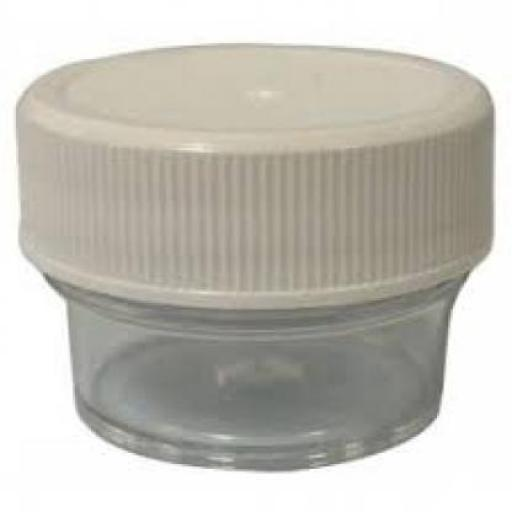glass: (40, 273, 466, 469)
plastic: (14, 41, 488, 310)
